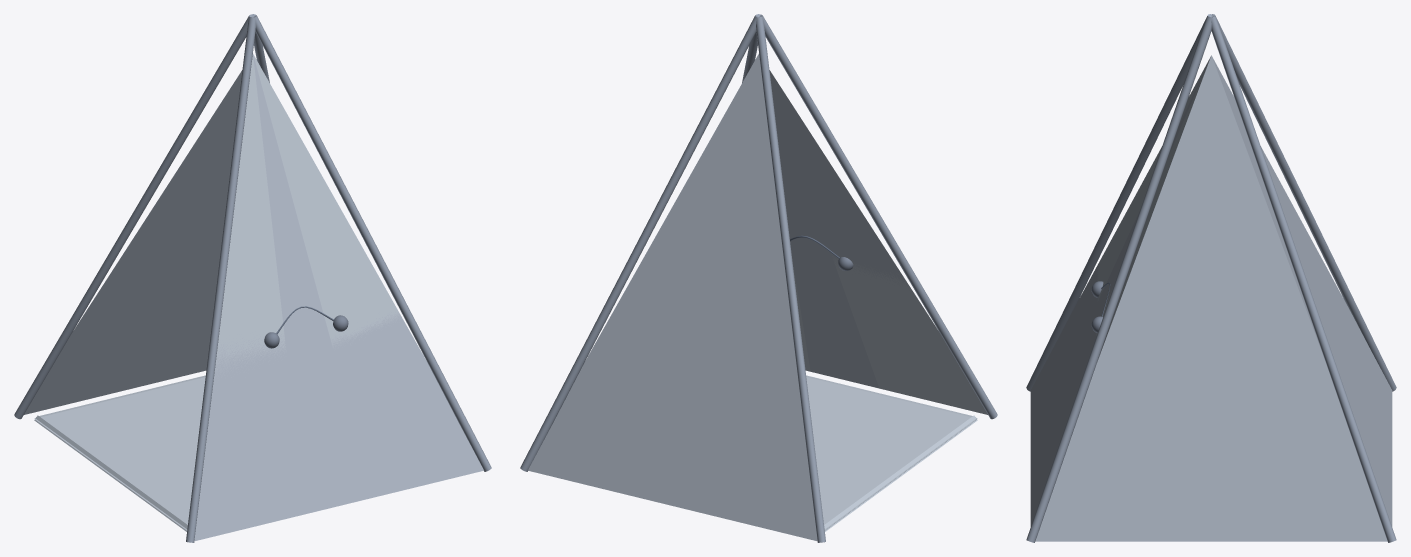
File: kids-tent-lite.glb
3 renders of one model, left to right at view 1: azimuth 30°, elevation 25°; view 2: azimuth 150°, elevation 25°; view 3: azimuth 270°, elevation 25°, orthographic. The views are drawn at different scales.
Visible parts, largest first — view 1: soft, light, body; view 2: soft, light, body; view 3: soft, body, light.
Part boxes in pixels (x1,y1,x2,y2): soft: (24, 54, 483, 541); light: (34, 54, 402, 531); body: (14, 14, 491, 542); soft: (528, 54, 911, 541); light: (792, 254, 987, 531); body: (520, 14, 997, 542); soft: (1030, 55, 1392, 541); body: (1026, 14, 1396, 542); light: (1096, 56, 1210, 353).
Size of the model in its own units: 1.06 by 1.43 by 1.06.
